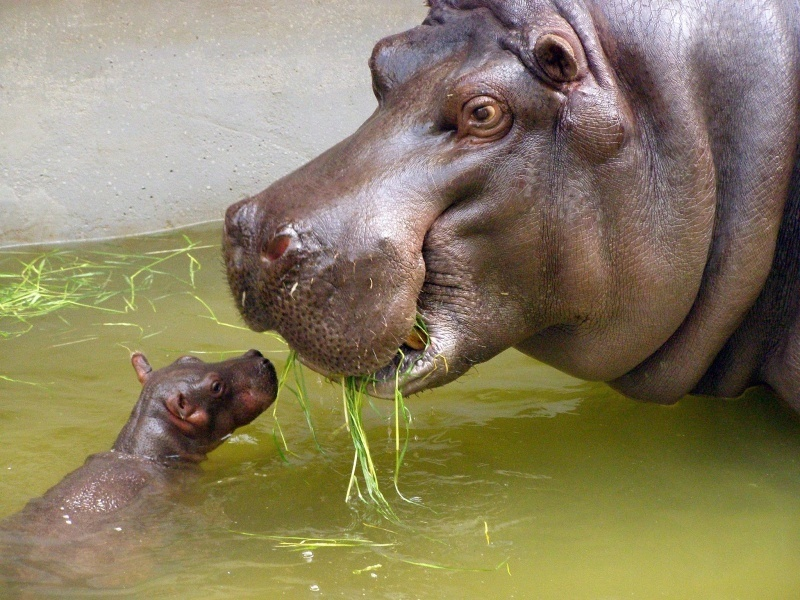hipopotamo: (215, 0, 800, 409), (2, 347, 279, 584)
